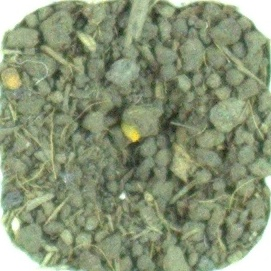pepper seed: (44, 41, 195, 185)
